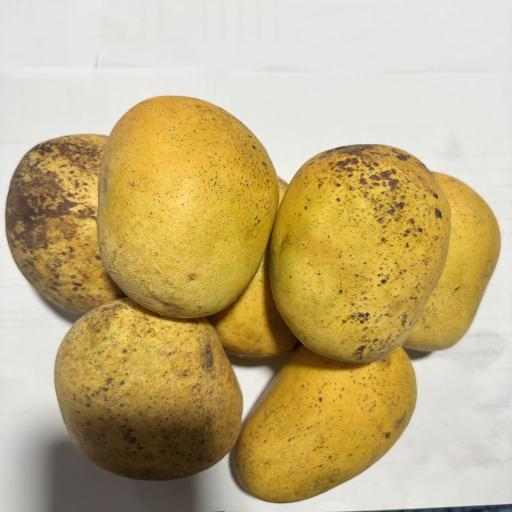fruit: (250, 129, 448, 375), (91, 84, 277, 338), (48, 280, 251, 488), (222, 318, 439, 508), (14, 126, 156, 332), (387, 152, 512, 364), (184, 233, 301, 363)
